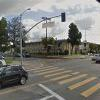Crosswalk: (37, 59, 100, 99)
